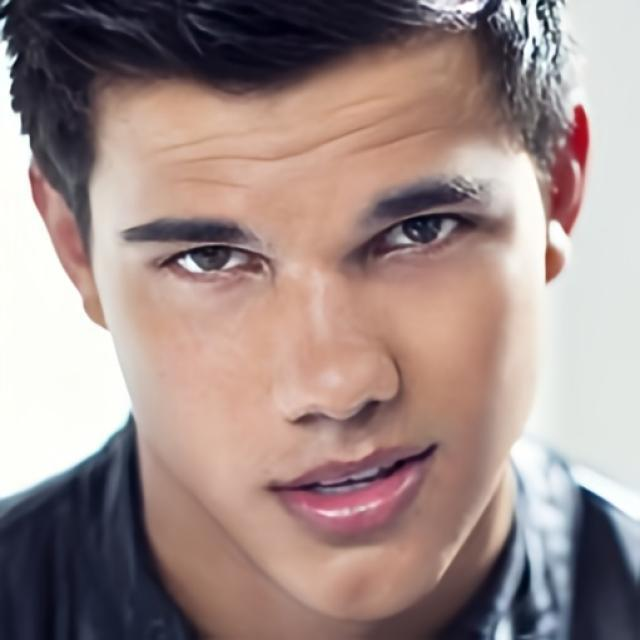content: (94, 32, 548, 626)
